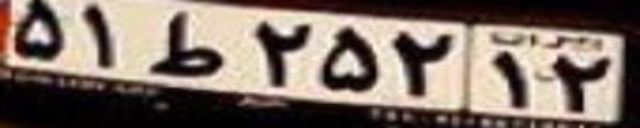1: (79, 2, 116, 68), (490, 49, 527, 109)
2: (393, 30, 458, 96), (254, 19, 310, 87), (551, 53, 612, 113)
5: (320, 26, 380, 91), (16, 0, 68, 61)
taa: (145, 9, 227, 78)
